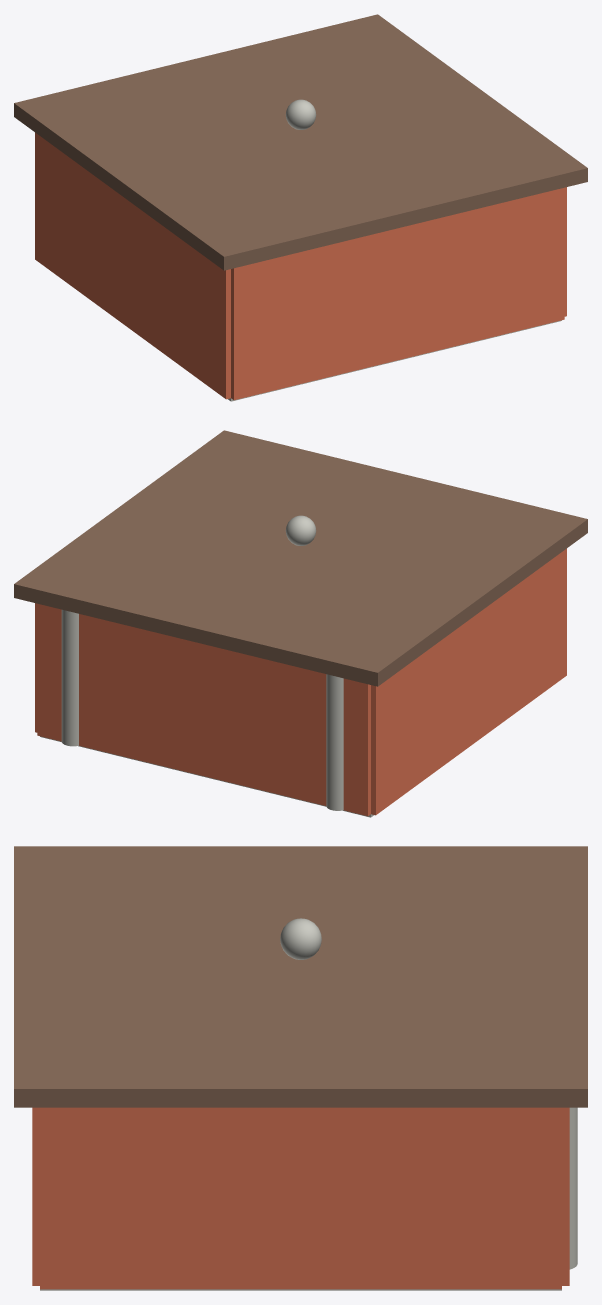
Rendered from house.glb.
The picture shows the model from 3 angles, top to bottom: view 1: azimuth 30°, elevation 25°; view 2: azimuth 150°, elevation 25°; view 3: azimuth 270°, elevation 25°; orthographic projection. The views are drawn at different scales.
Parts seen in each view (by area): view 1: Roof, BackWall, LeftWall, Ornament; view 2: Roof, FrontWall, LeftWall, RightColumn, LeftColumn, Ornament; view 3: Roof, RightWall, RightColumn, FrontWall, BackWall, Ornament, Floor.
Part boxes in pixels (x1,y1,x2,y2): Roof: (14,14,587,270); BackWall: (231,187,564,400); LeftWall: (35,132,230,399); Ornament: (285,99,316,129); Roof: (14,430,587,686); FrontWall: (37,603,370,816); LeftWall: (371,548,566,815); RightColumn: (61,609,78,746); LeftColumn: (326,674,343,810); Ornament: (285,515,316,545); Roof: (14,846,587,1107); RightWall: (40,1107,561,1289); RightColumn: (569,1107,577,1269); FrontWall: (562,1107,569,1285); BackWall: (32,1107,39,1285); Ornament: (280,918,321,959); Floor: (40,1289,561,1290).
Size of what is drawn, in the model's own units: 11 by 5.5 by 11.
